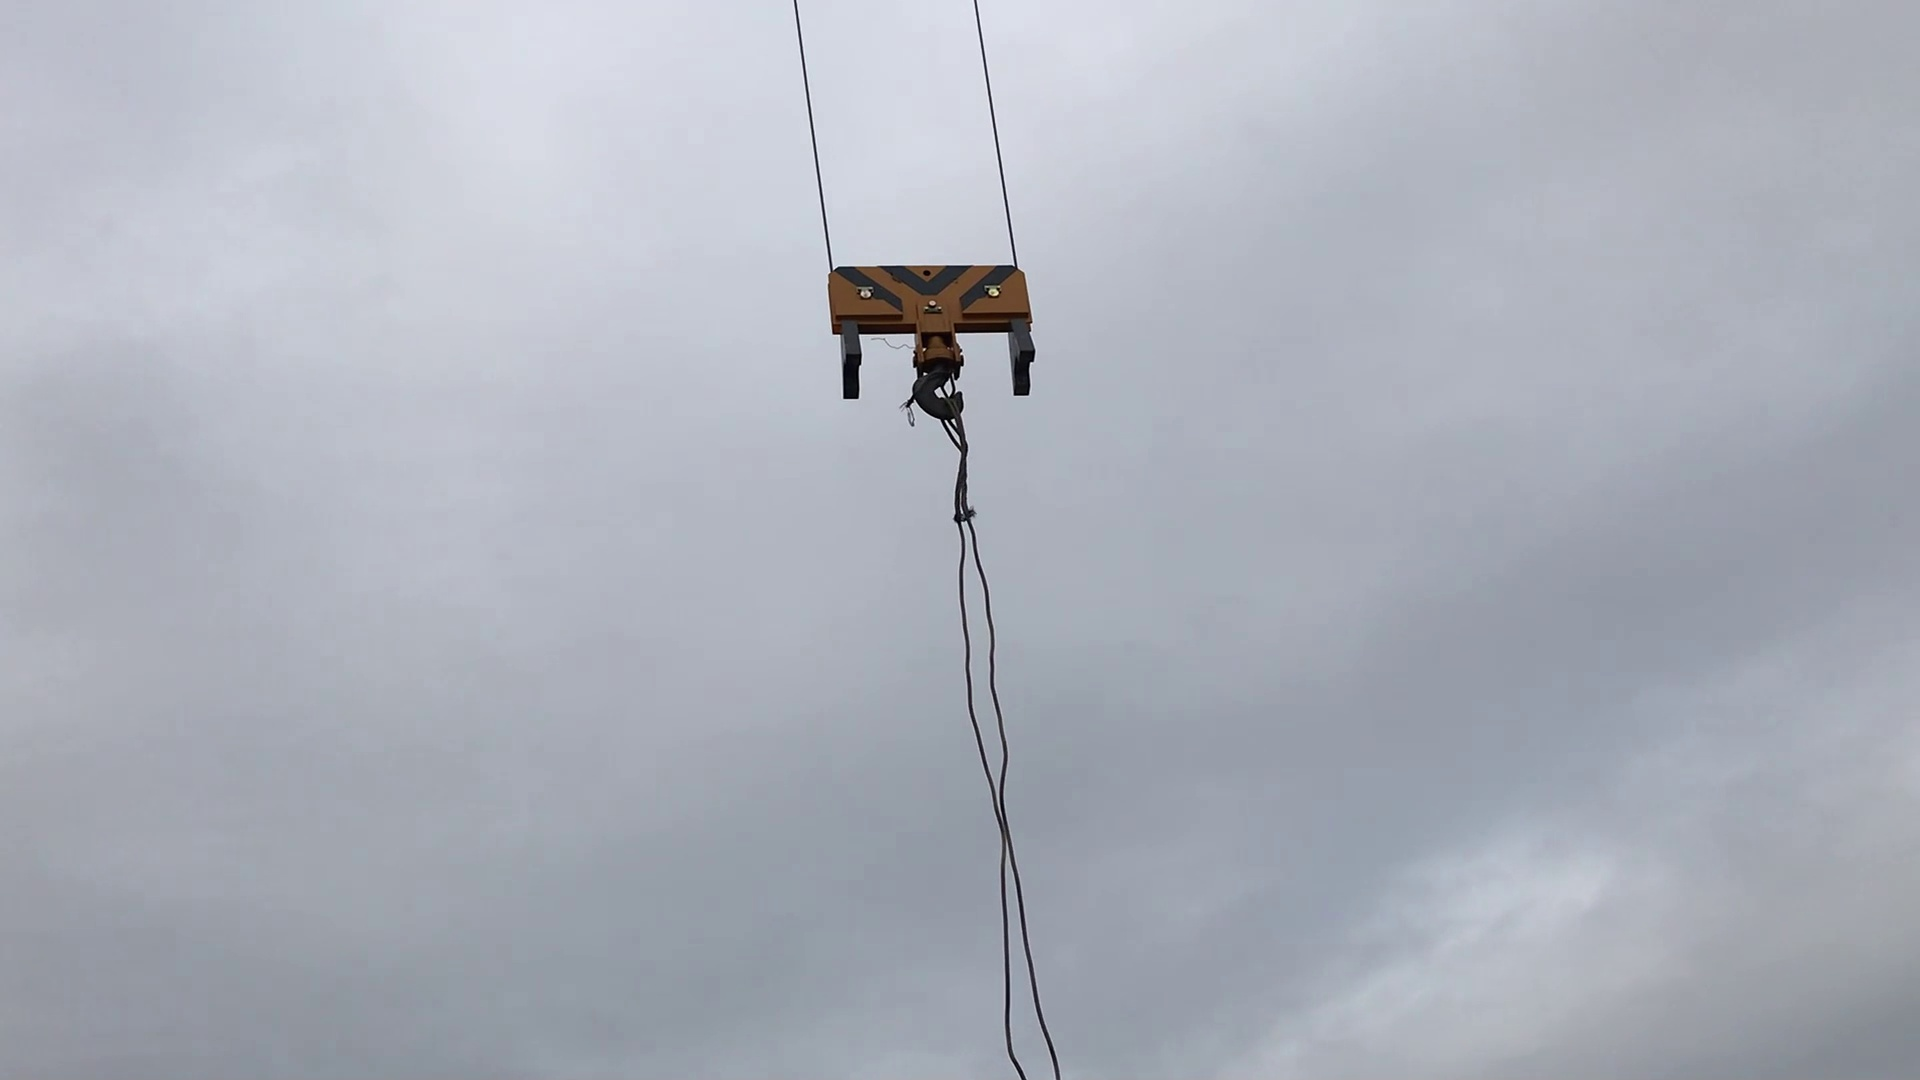hook: (825, 256, 1042, 419)
